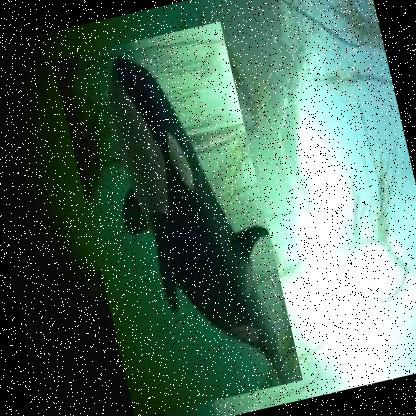killer_whale: (51, 19, 304, 415)
